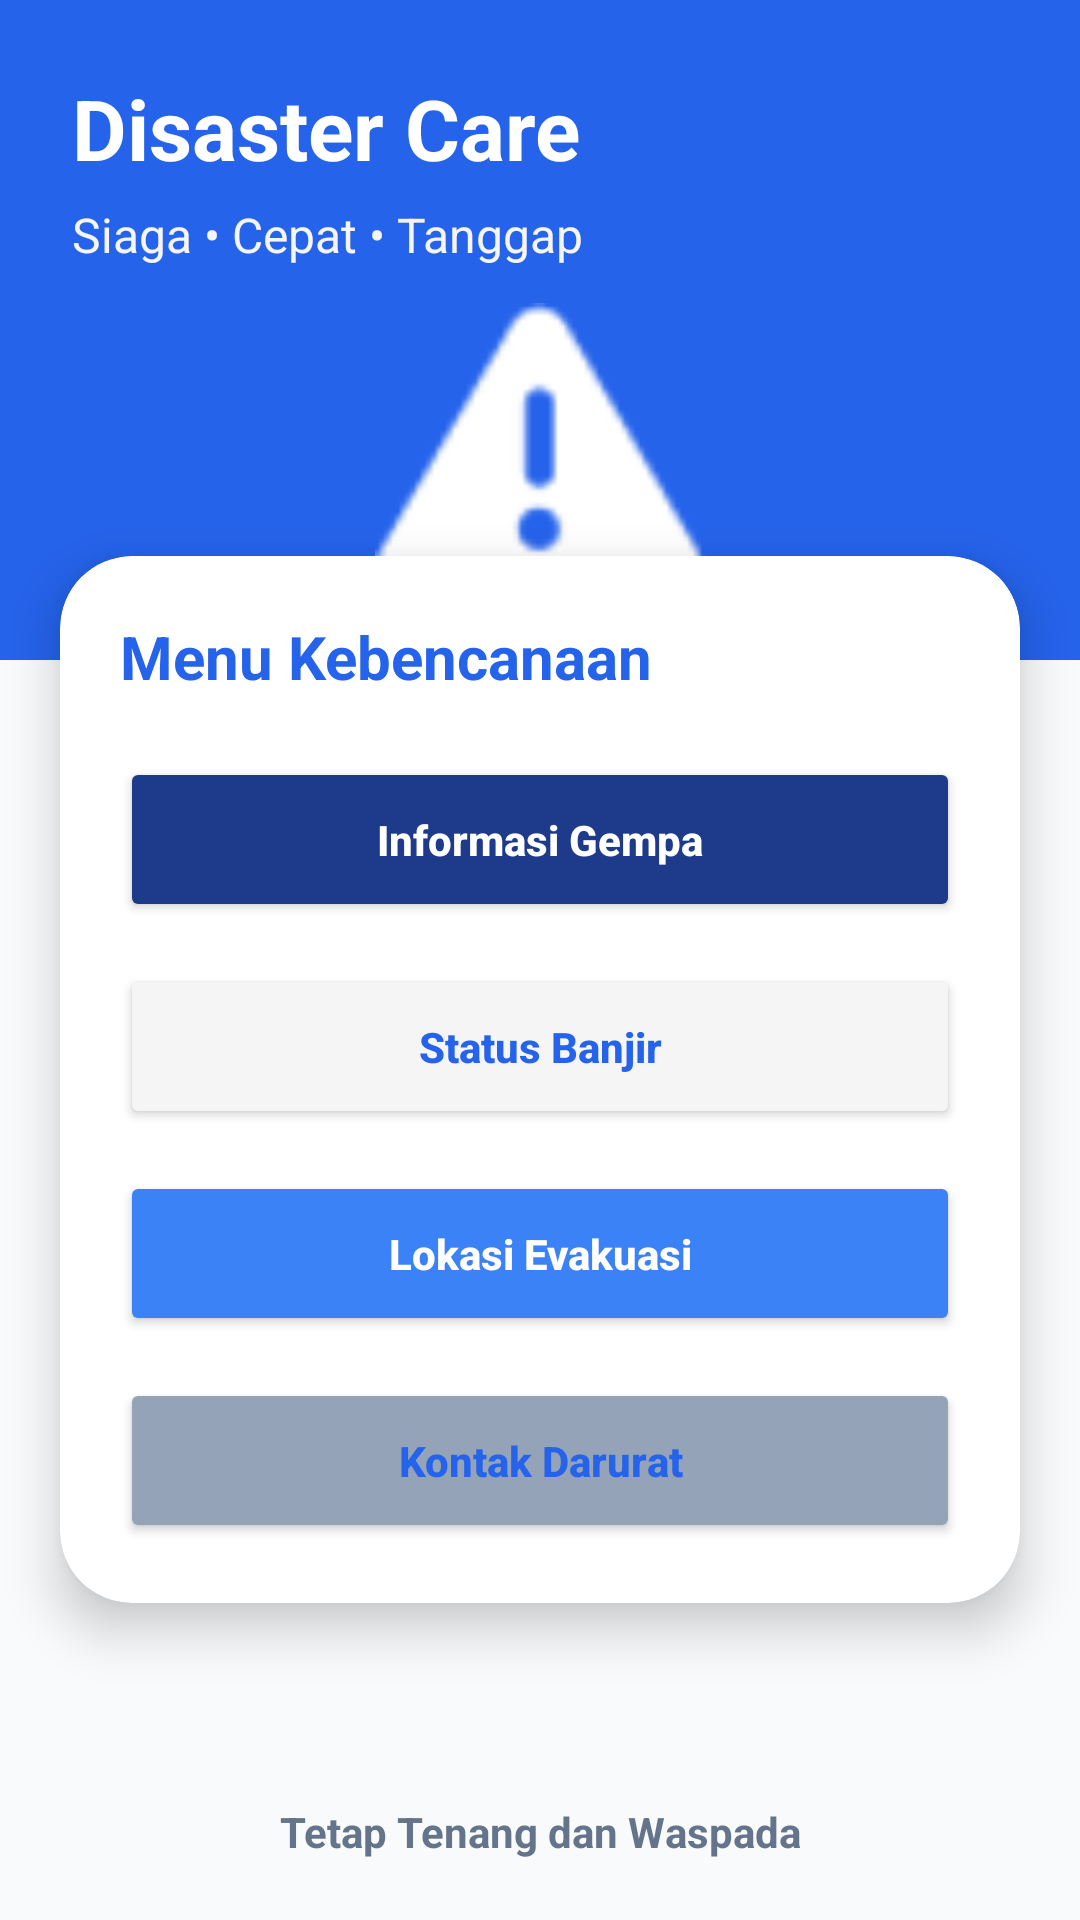

Screen size 1080*1920. Icon name, then its center in pixels as (x,y):
alert: (540,468)
